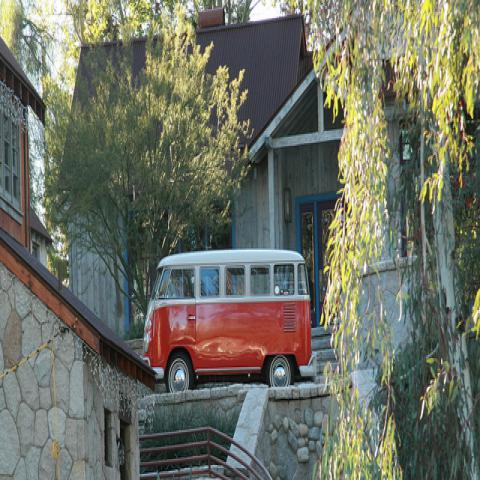bus: (143, 247, 317, 390)
